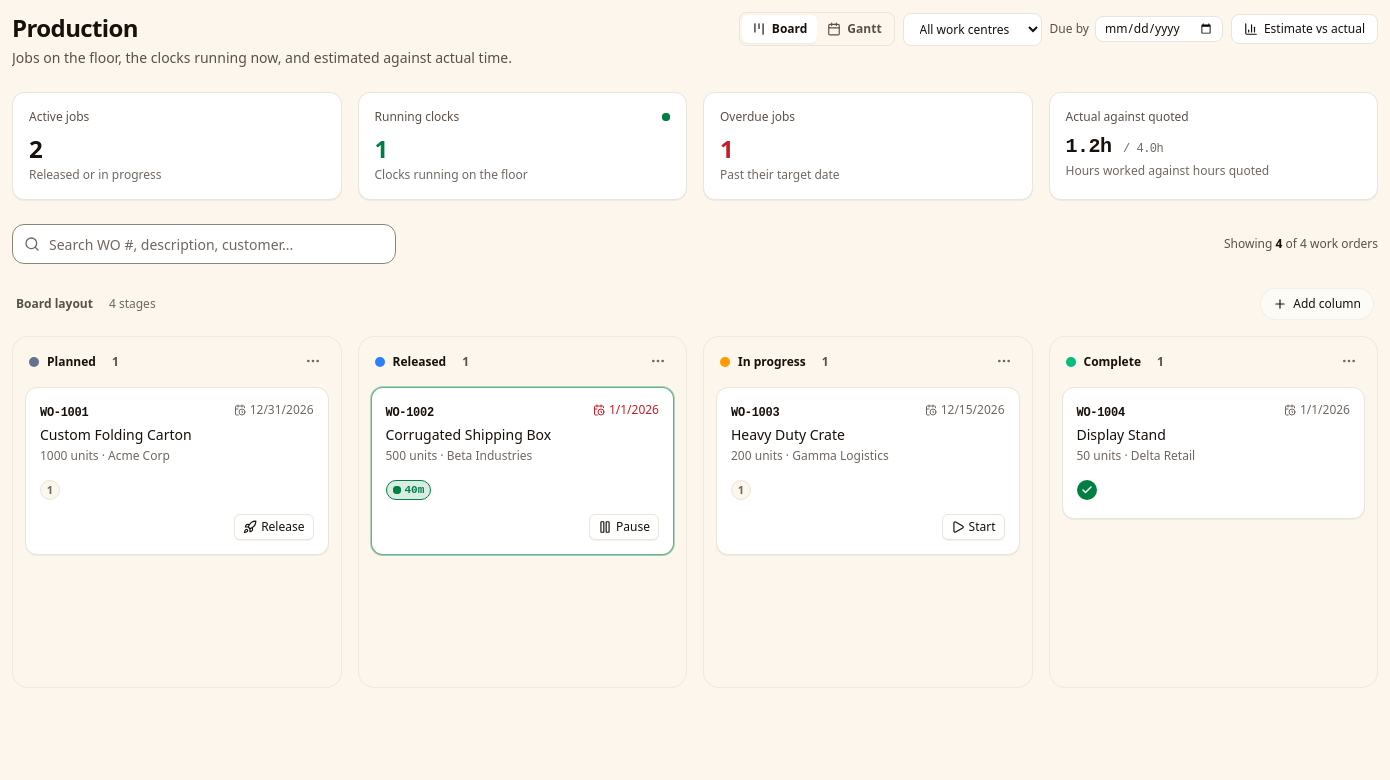
Test: ProductionBoard › Search Filter Input › shows empty filter state when no search matches and allows clearing
In the field named "Search work orders": (204, 244) [12, 224, 396, 264], type "Nonexistent"
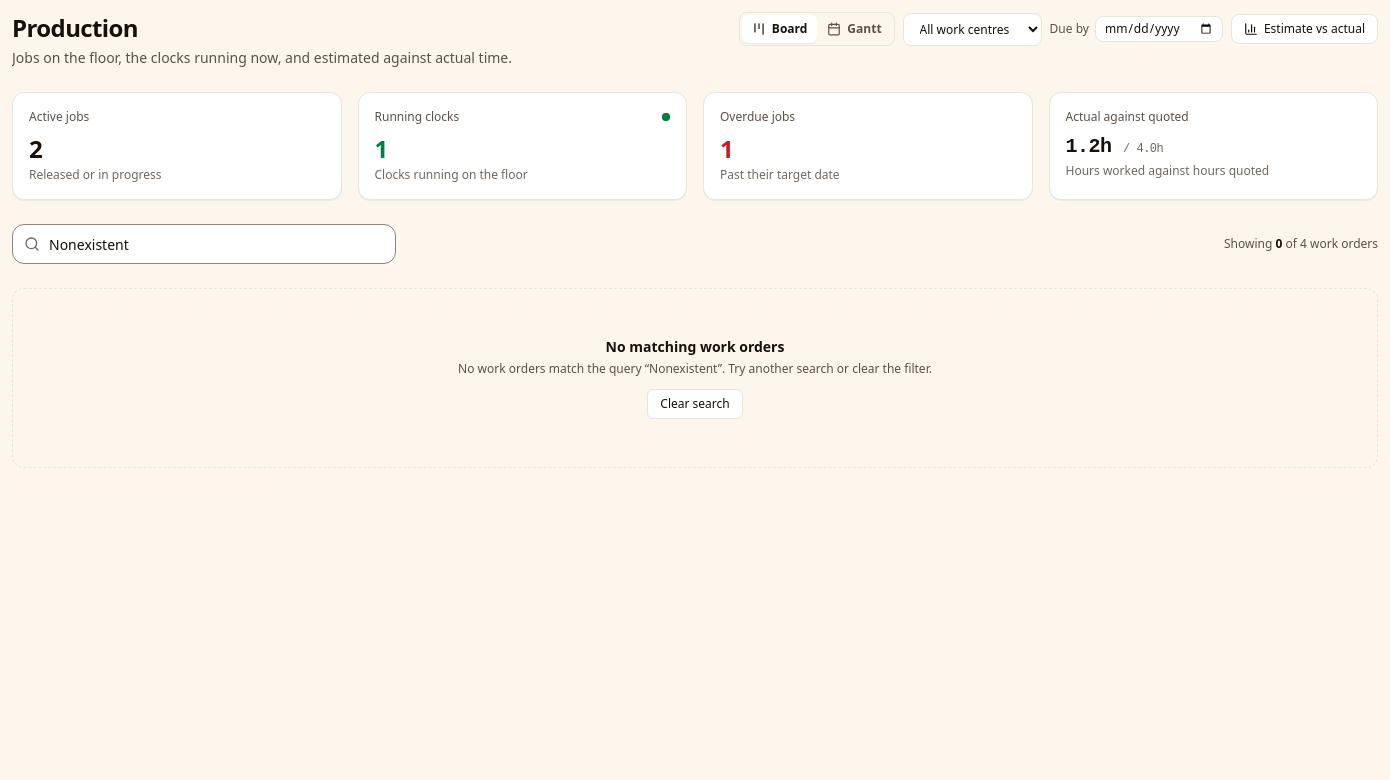
Expected: the text "No matching work orders" is shown, [606, 337, 784, 356]
Click the button "Clear search": (695, 404) [647, 389, 743, 419]
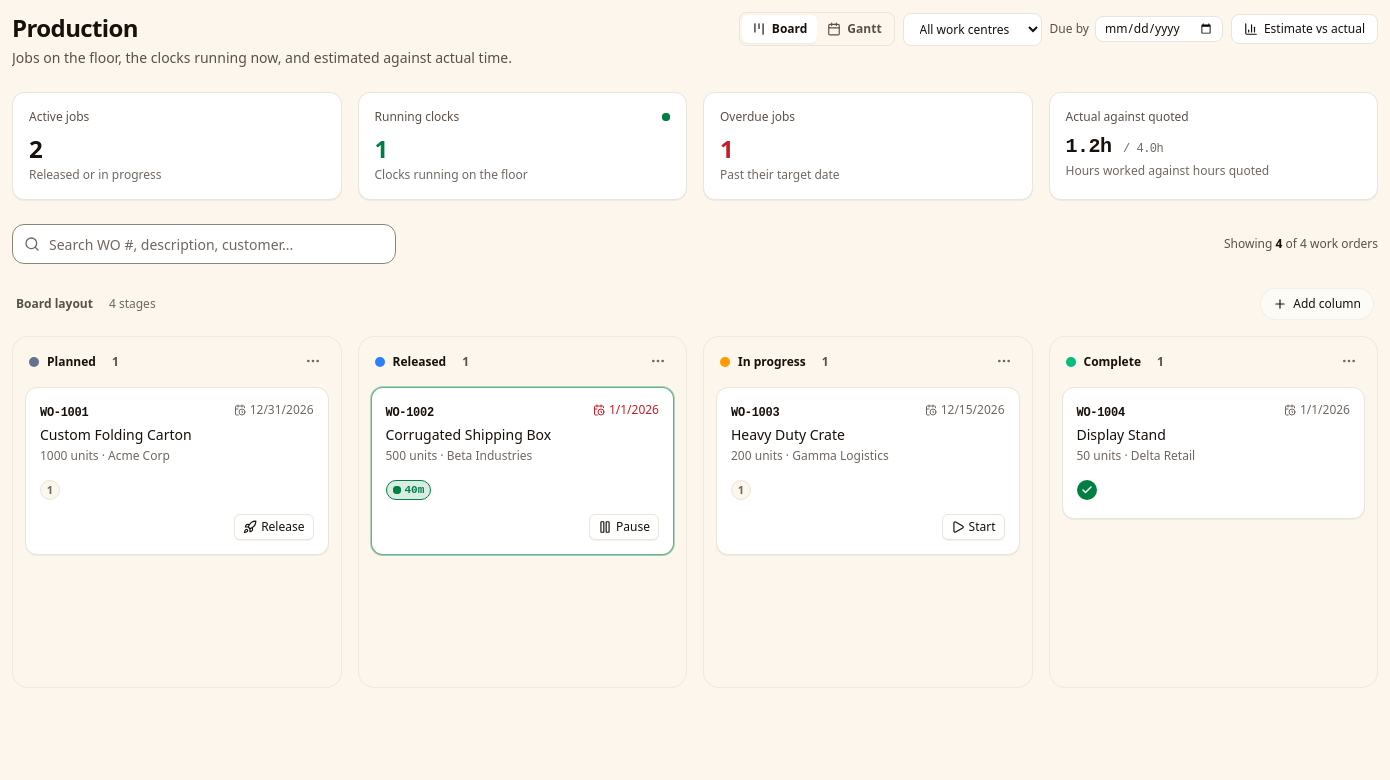
Expected: the text "WO-1001" is shown, [40, 405, 88, 421]
Expected: the text "WO-1002" is shown, [386, 405, 434, 421]
